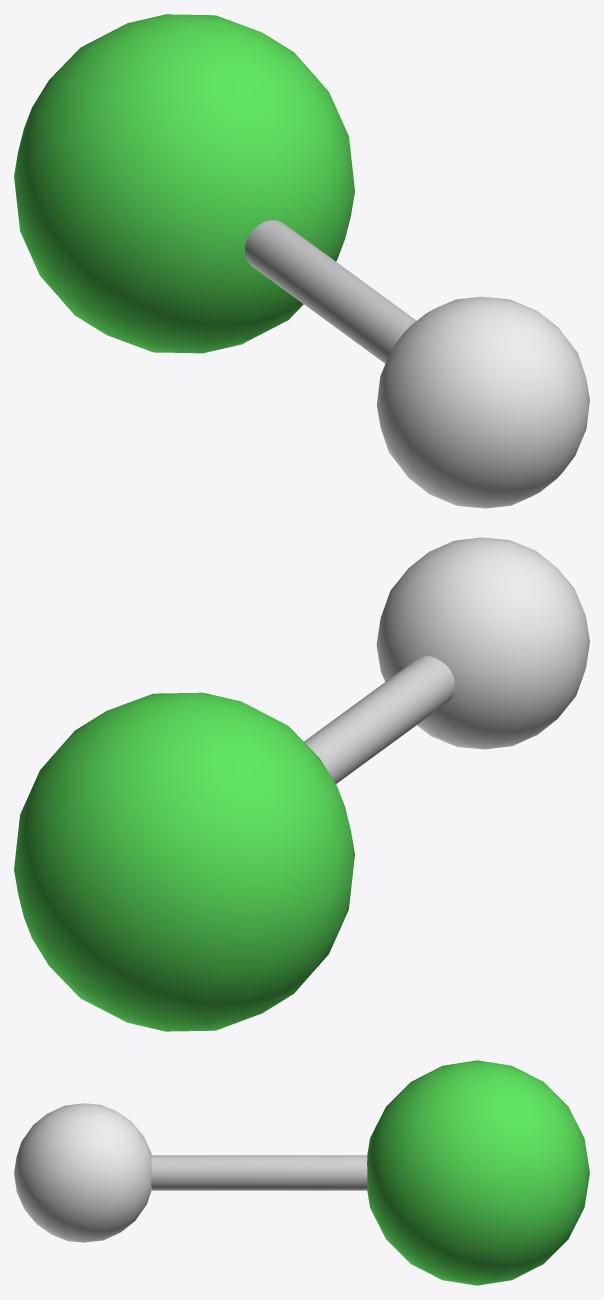
File: HCL.fbx
3 renders of one model, top to bottom at view 1: azimuth 30°, elevation 25°; view 2: azimuth 150°, elevation 25°; view 3: azimuth 270°, elevation 25°, orthographic. The views are drawn at different scales.
Visible parts, largest first — view 1: Atom_0_CL, Atom_3_H, Bond; view 2: Atom_0_CL, Atom_3_H, Bond; view 3: Atom_0_CL, Atom_3_H, Bond.
Boxes of the visible parts, x1=… form: Atom_0_CL: x1=14, y1=14, x2=354, y2=353; Atom_3_H: x1=376, y1=296, x2=589, y2=508; Bond: x1=245, y1=220, x2=416, y2=363; Atom_0_CL: x1=14, y1=692, x2=354, y2=1031; Atom_3_H: x1=376, y1=537, x2=589, y2=749; Bond: x1=304, y1=656, x2=454, y2=783; Atom_0_CL: x1=367, y1=1060, x2=589, y2=1285; Atom_3_H: x1=14, y1=1103, x2=151, y2=1242; Bond: x1=151, y1=1155, x2=367, y2=1190.
Size of the model in its own units: 0.7 by 0.7 by 1.79.
